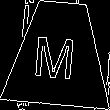M_N: (36, 26, 83, 80)
